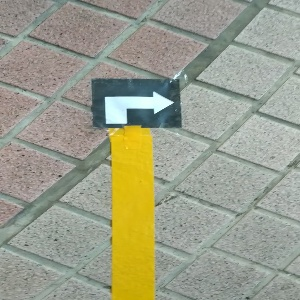right: (92, 78, 182, 128)
